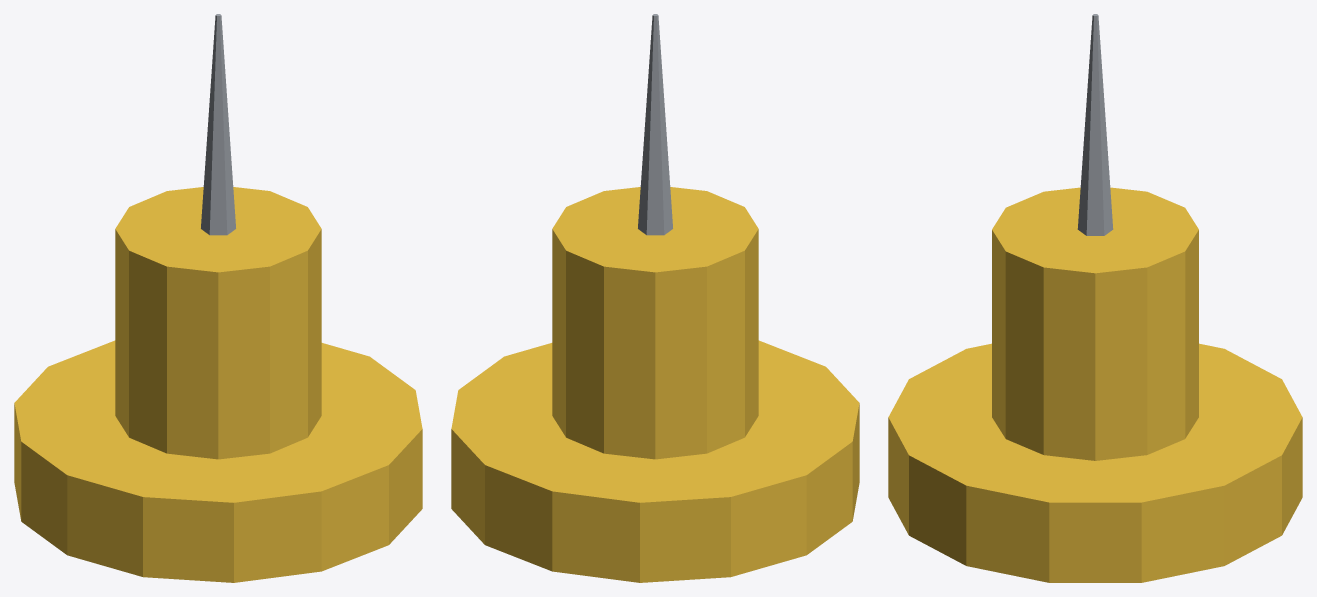
File: prop_thumbtacks_p0.glb
3 views of the same model, side by side, from view 1: azimuth 30°, elevation 25°; view 2: azimuth 150°, elevation 25°; view 3: azimuth 270°, elevation 25° (orthographic).
Parts seen in each view (by area): view 1: prop_thumbtacks_p0_mesh; view 2: prop_thumbtacks_p0_mesh; view 3: prop_thumbtacks_p0_mesh.
Boxes of the visible parts, bbox=[...] form: prop_thumbtacks_p0_mesh: bbox=[14, 14, 422, 582]; prop_thumbtacks_p0_mesh: bbox=[451, 14, 859, 582]; prop_thumbtacks_p0_mesh: bbox=[888, 14, 1302, 582].
Size of the model in its own units: 0.1365 by 0.18 by 0.14.
